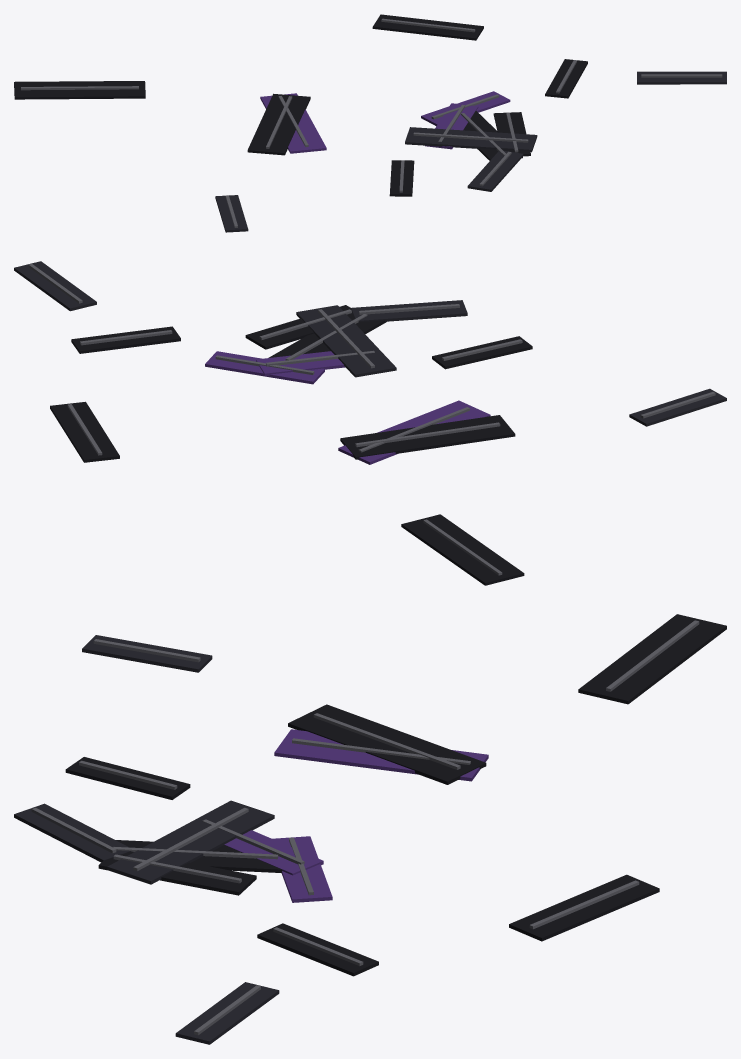
The model's file is federn.glb.
The picture shows the model from 3 angles, top to bottom: view 1: azimuth 30°, elevation 25°; view 2: azimuth 150°, elevation 25°; view 3: azimuth 270°, elevation 25°; orthographic projection. The views are drawn at different scales.
Visible parts, largest first — view 1: modell; view 2: modell; view 3: modell.
Part boxes in pixels (left/top/right/bottom): modell: left=14, top=14, right=726, bottom=232; modell: left=14, top=261, right=726, bottom=585; modell: left=14, top=614, right=726, bottom=1044.
Size of the model in its own units: 1.59 by 0.0188 by 1.12.
